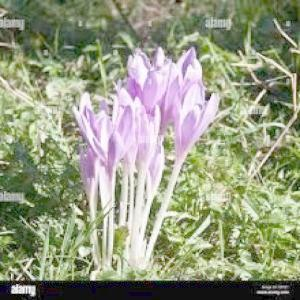Saffron: (76, 96, 135, 174), (170, 84, 220, 167), (130, 102, 164, 178), (71, 145, 106, 207)
